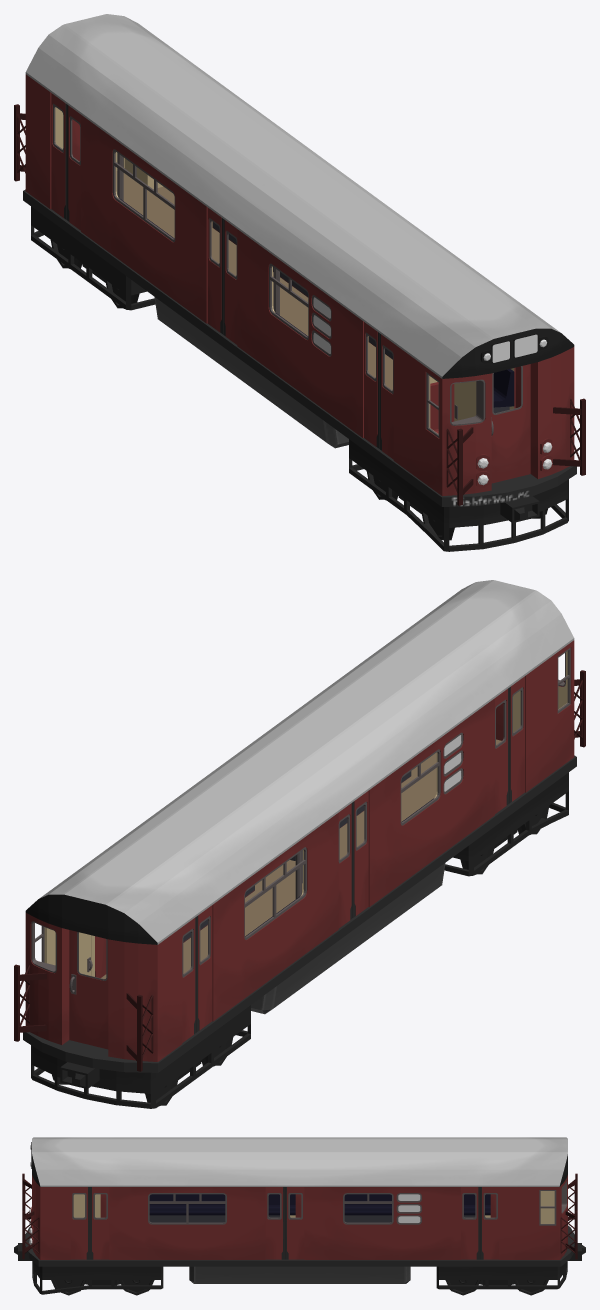
The model's file is R36Redbird.fbx.
3 views of the same model, one above another, from view 1: azimuth 30°, elevation 25°; view 2: azimuth 150°, elevation 25°; view 3: azimuth 270°, elevation 25° (orthographic). The views are drawn at different scales.
Parts seen in each view (by area): view 1: TrainCar, FrontCowcatcher, RightDoorB, RightDoorA, FrontDoor, RearCowcatcher, FrontBogey, PassengerSeats, FrontCabDoor; view 2: TrainCar, RearCowcatcher, RightDoorA, RightDoorB, FrontCowcatcher, RearDoor, RearBogey; view 3: TrainCar, PassengerSeats, LeftDoorB, LeftDoorA, FrontCowcatcher, RearCowcatcher, RearBogey, FrontBogey, RightDoorA, Rollsigns, RearCabDoor.
Boxes of the visible parts, x1=… form: TrainCar: x1=14, y1=14, x2=585, y2=506; FrontCowcatcher: x1=349, y1=439, x2=568, y2=551; RightDoorB: x1=51, y1=93, x2=379, y2=448; RightDoorA: x1=67, y1=104, x2=393, y2=459; FrontDoor: x1=491, y1=364, x2=530, y2=483; RearCowcatcher: x1=31, y1=206, x2=155, y2=310; FrontBogey: x1=366, y1=471, x2=547, y2=540; PassengerSeats: x1=119, y1=198, x2=514, y2=413; FrontCabDoor: x1=454, y1=381, x2=473, y2=421; TrainCar: x1=14, y1=580, x2=585, y2=1072; RearCowcatcher: x1=31, y1=1005, x2=250, y2=1108; RightDoorA: x1=196, y1=676, x2=524, y2=1032; RightDoorB: x1=182, y1=688, x2=508, y2=1042; FrontCowcatcher: x1=444, y1=772, x2=568, y2=876; RearDoor: x1=69, y1=930, x2=108, y2=1049; RearBogey: x1=52, y1=1037, x2=233, y2=1106; TrainCar: x1=22, y1=1137, x2=577, y2=1283; PassengerSeats: x1=149, y1=1194, x2=490, y2=1222; LeftDoorB: x1=90, y1=1187, x2=499, y2=1259; LeftDoorA: x1=70, y1=1187, x2=479, y2=1259; FrontCowcatcher: x1=32, y1=1261, x2=163, y2=1294; RearCowcatcher: x1=436, y1=1261, x2=567, y2=1289; RearBogey: x1=445, y1=1243, x2=585, y2=1295; FrontBogey: x1=14, y1=1243, x2=154, y2=1295; RightDoorA: x1=100, y1=1194, x2=496, y2=1217; Rollsigns: x1=398, y1=1194, x2=420, y2=1222; RearCabDoor: x1=540, y1=1191, x2=552, y2=1223.
Size of the model in its own units: 272 by 419 by 1600.
Materials: 5 (3 with a texture image).
